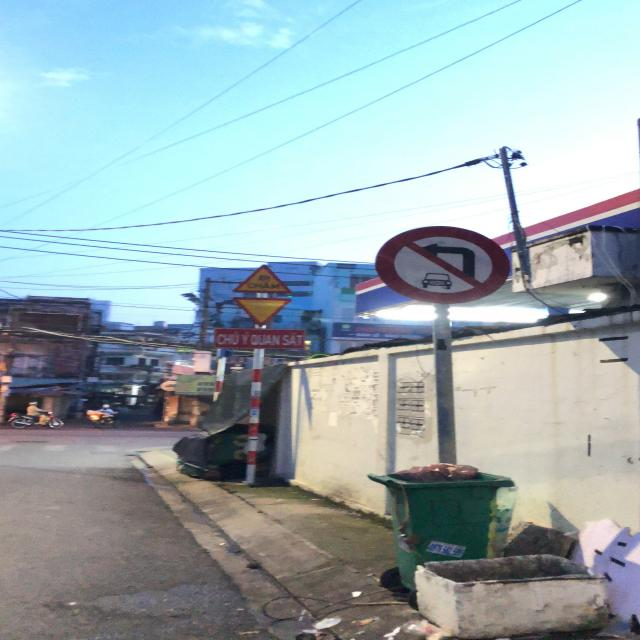Bien bao cam xe o to re trai: (369, 224, 518, 306)
Bien bao di cham: (230, 262, 300, 296)
Bien bao giao nhau voi duong uu tien: (226, 295, 302, 326)
